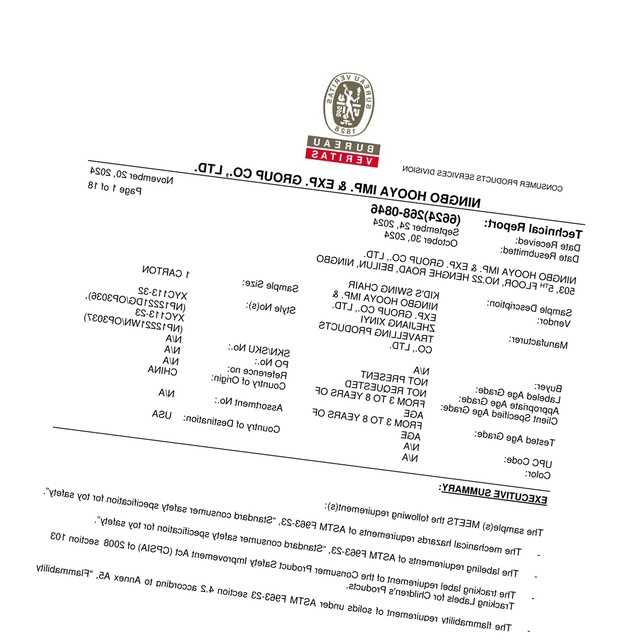bureau_veritas: (302, 67, 384, 169)
